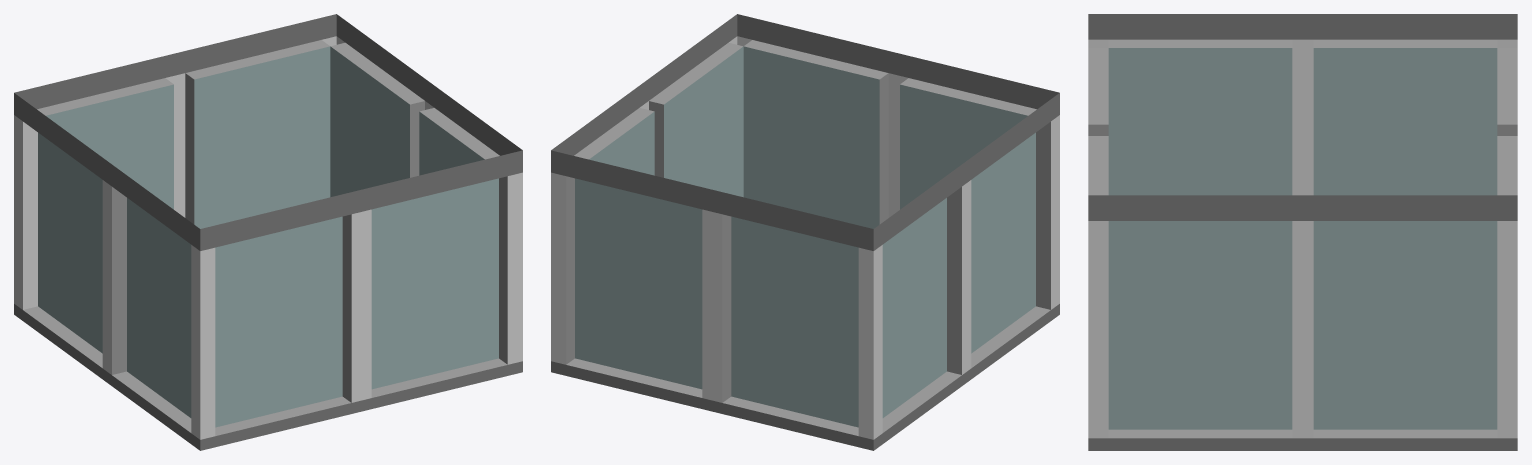
Rendered from Building2_Mid.fbx.
3 renders of one model, left to right at view 1: azimuth 30°, elevation 25°; view 2: azimuth 150°, elevation 25°; view 3: azimuth 270°, elevation 25°, orthographic. The views are drawn at different scales.
Parts seen in each view (by area): view 1: Building2_Mid; view 2: Building2_Mid; view 3: Building2_Mid.
Part boxes in pixels (left/top/right/bottom): Building2_Mid: left=14, top=14, right=522, bottom=450; Building2_Mid: left=551, top=14, right=1059, bottom=450; Building2_Mid: left=1088, top=14, right=1517, bottom=450.
Bounding box in the file's own units: 800 × 526 × 800.
